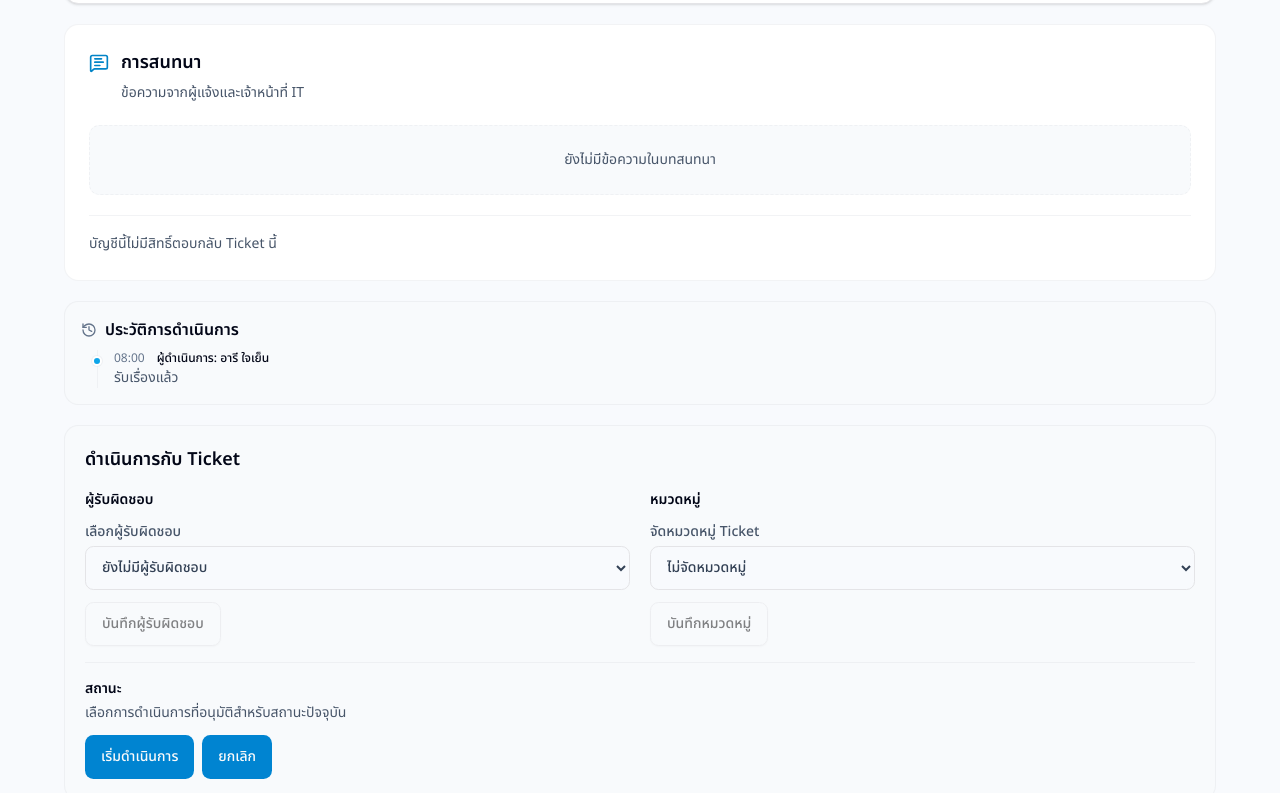
Scenario: IT operator Ticket detail presentation › reloads Activity after a successful workflow change
(page scrolled)
Expected: the text "ผู้ดำเนินการ: อารี ใจเย็น" is shown, [157,350,269,366]
Click the button "เริ่มดำเนินการ" at (140, 756), box [85,734,194,778]
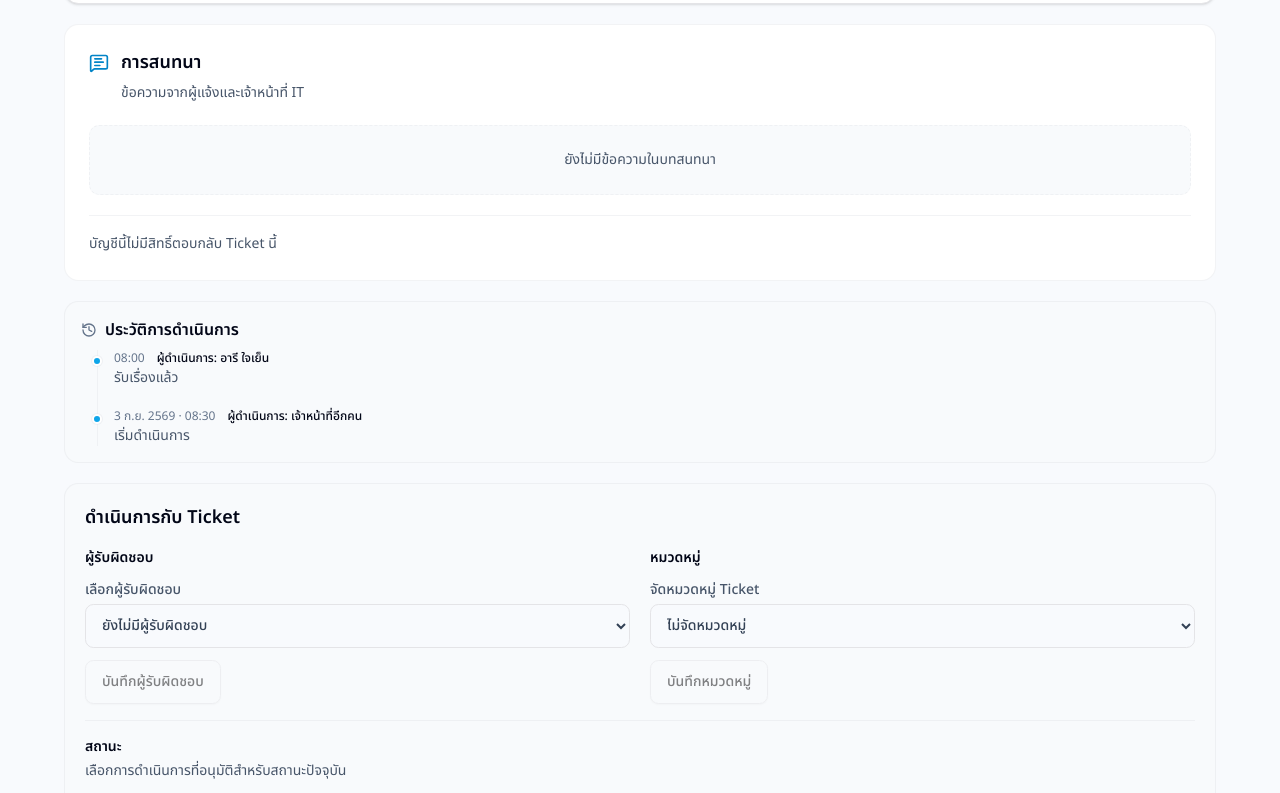
Expected: the text "เริ่มดำเนินการ" is shown, [114,424,190,446]
Now the text "ผู้ดำเนินการ: เจ้าหน้าที่อีกคน" is shown, box [228,408,362,424]
